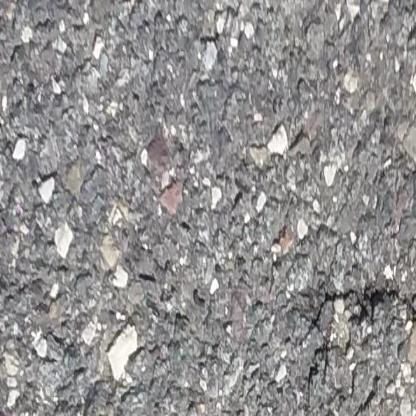Cracks: (308, 280, 416, 343)
